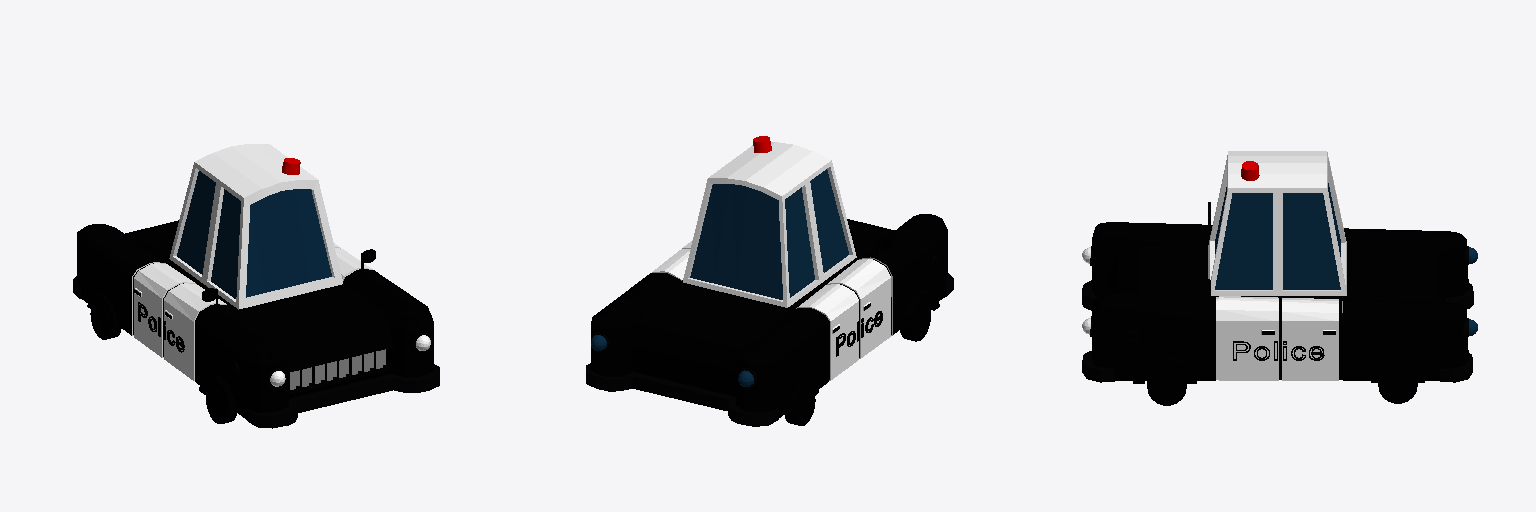
The model's file is PoliceCar_1396.obj.
3 views of the same model, side by side, from view 1: azimuth 30°, elevation 25°; view 2: azimuth 150°, elevation 25°; view 3: azimuth 270°, elevation 25° (orthographic).
Visible parts, largest first — view 1: Object003; view 2: Object003; view 3: Object003.
Boxes of the visible parts, <box> form: Object003: <box>73,144,439,428</box>; Object003: <box>586,136,953,426</box>; Object003: <box>1082,151,1477,405</box>.
Bounding box in the file's own units: 36.21 × 35.78 × 63.04.